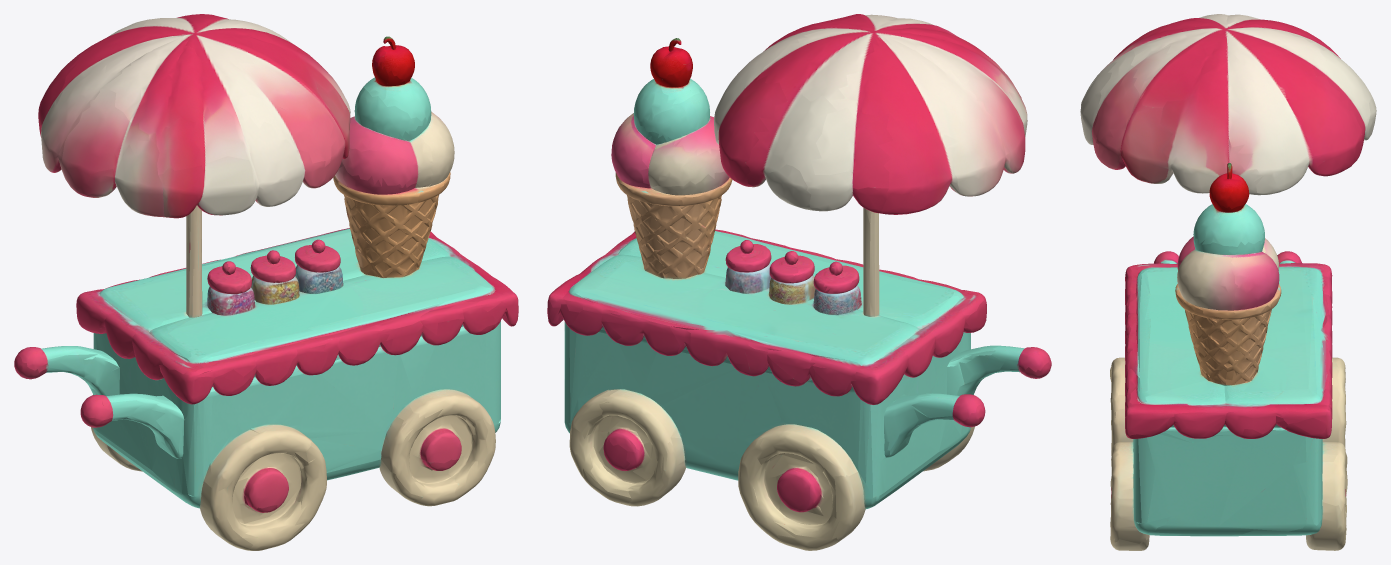
Rendered from candy-ice-cream-cart-v1.glb.
3 views of the same model, side by side, from view 1: azimuth 30°, elevation 25°; view 2: azimuth 150°, elevation 25°; view 3: azimuth 270°, elevation 25° (orthographic). The views are drawn at different scales.
Bounding box in the file's own units: 1.18 × 1.29 × 0.7979.
Materials: 1 (1 with a texture image).
